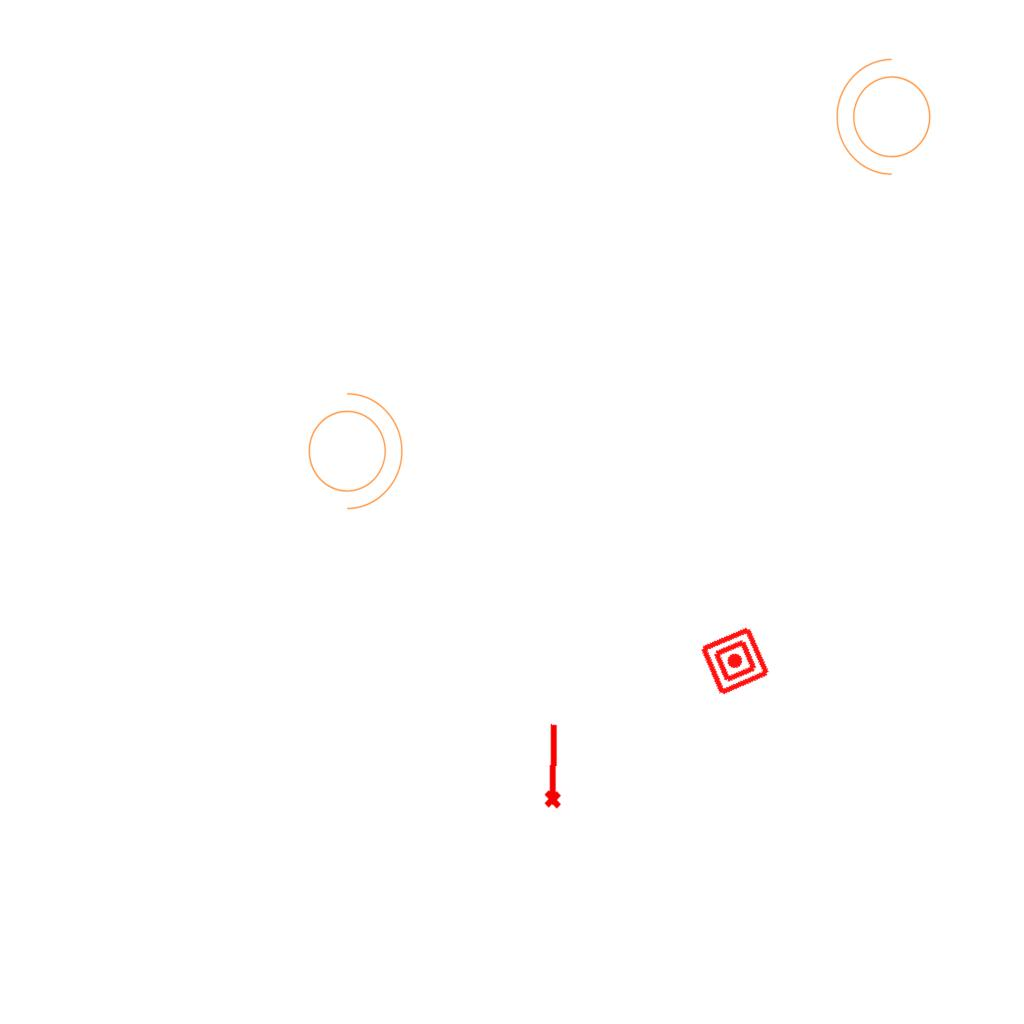ASR_Ansaugoeffnung: (539, 721, 565, 810)
NAM-Nichtautomatischer_Melder: (698, 624, 772, 698)
Scheinwerfer_fuer_Alarmbeleuchtung: (831, 54, 943, 186), (296, 382, 408, 514)
